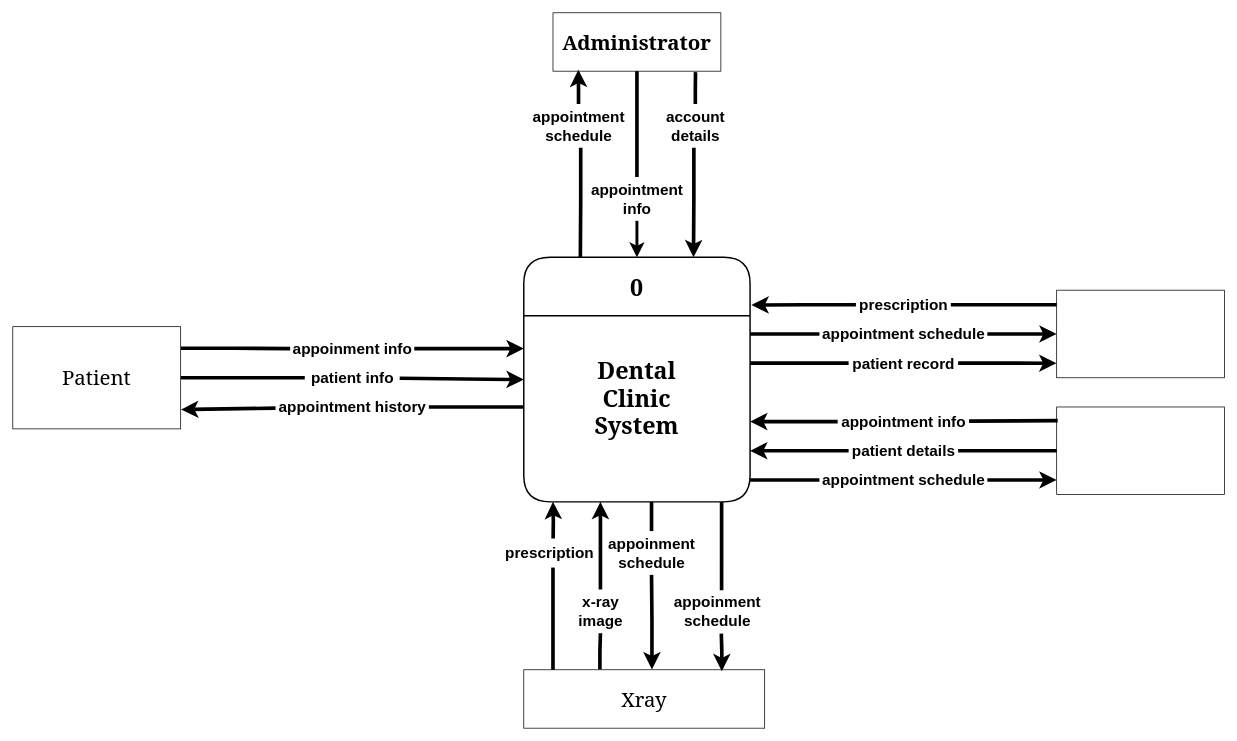
Some shapes in this 1237 by 741 pixel diagram are drawn without their labels. Here are the shapes that lost their labels. From the top down, the box of each, then its label:
(1056, 289, 1225, 378): Dentist
(1056, 406, 1225, 495): Receptionist
